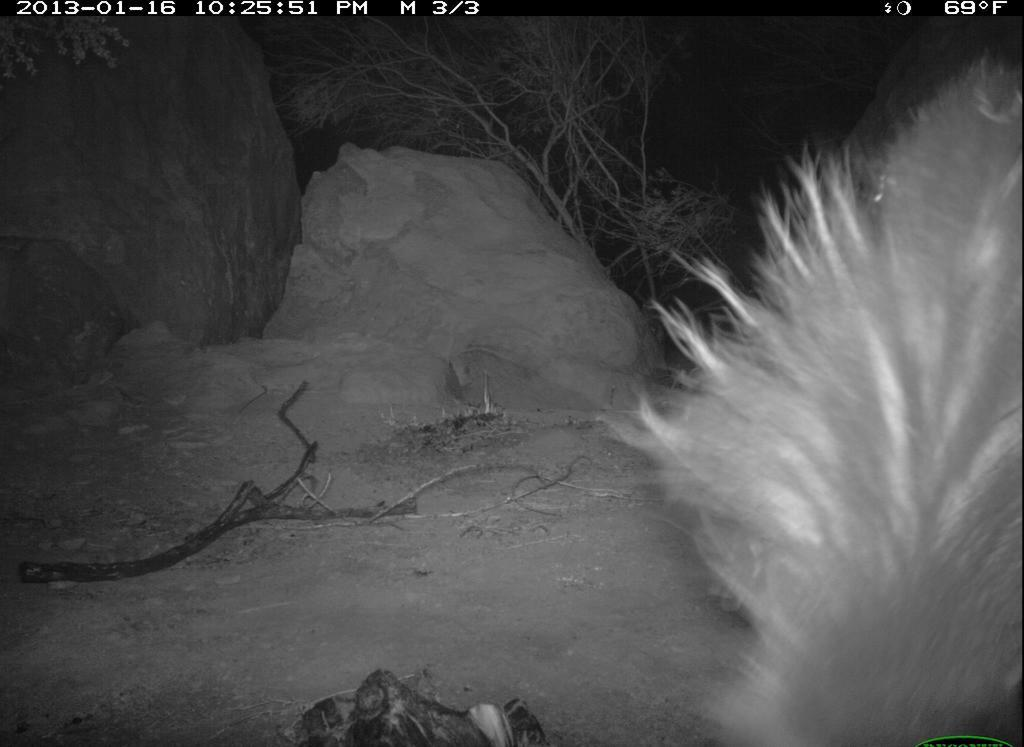skunk: (598, 58, 1022, 747)
